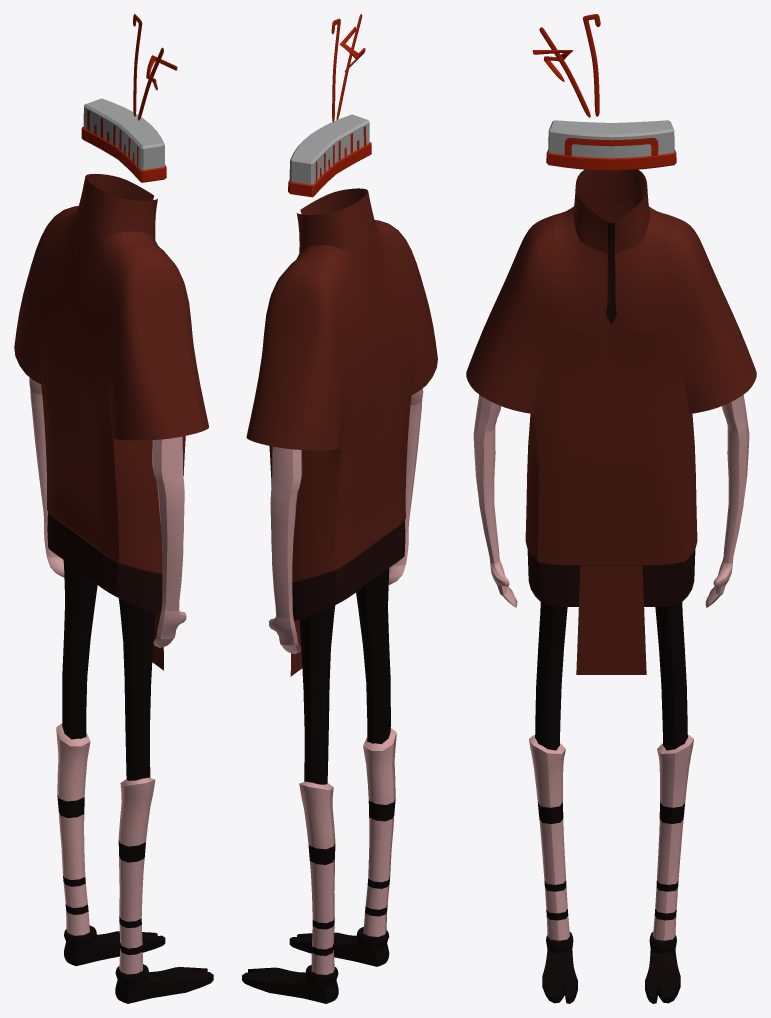
Rendered from dodick_1.obj.
3 views of the same model, side by side, from view 1: azimuth 30°, elevation 25°; view 2: azimuth 150°, elevation 25°; view 3: azimuth 270°, elevation 25° (orthographic).
Parts seen in each view (by area): view 1: Cube_Cube.003; view 2: Cube_Cube.003; view 3: Cube_Cube.003.
Boxes of the visible parts, left/top/right/bottom form: Cube_Cube.003: left=14, top=14, right=213, bottom=1003; Cube_Cube.003: left=242, top=14, right=437, bottom=1003; Cube_Cube.003: left=466, top=14, right=756, bottom=1003.
Bounding box in the file's own units: 0.2235 × 1.77 × 0.4855.
